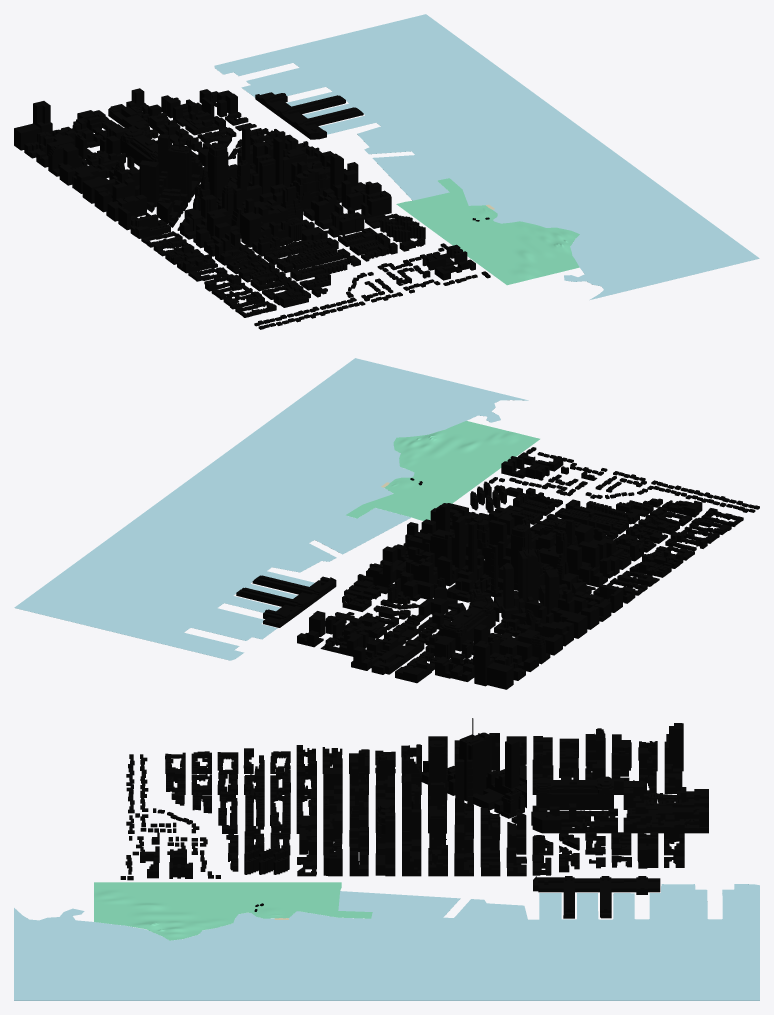
The model's file is rescaled-edges.glb.
The picture shows the model from 3 angles, top to bottom: view 1: azimuth 30°, elevation 25°; view 2: azimuth 150°, elevation 25°; view 3: azimuth 270°, elevation 25°; orthographic projection. The views are drawn at different scales.
Parts seen in each view (by area): view 1: Streetscapes_buildinglandscape_final; view 2: Streetscapes_buildinglandscape_final; view 3: Streetscapes_buildinglandscape_final.
Part boxes in pixels (bbox=[...]): Streetscapes_buildinglandscape_final: bbox=[14, 14, 759, 329]; Streetscapes_buildinglandscape_final: bbox=[14, 358, 759, 689]; Streetscapes_buildinglandscape_final: bbox=[14, 718, 759, 1000].
Bounding box in the file's own units: 1811 × 270 × 2339.
